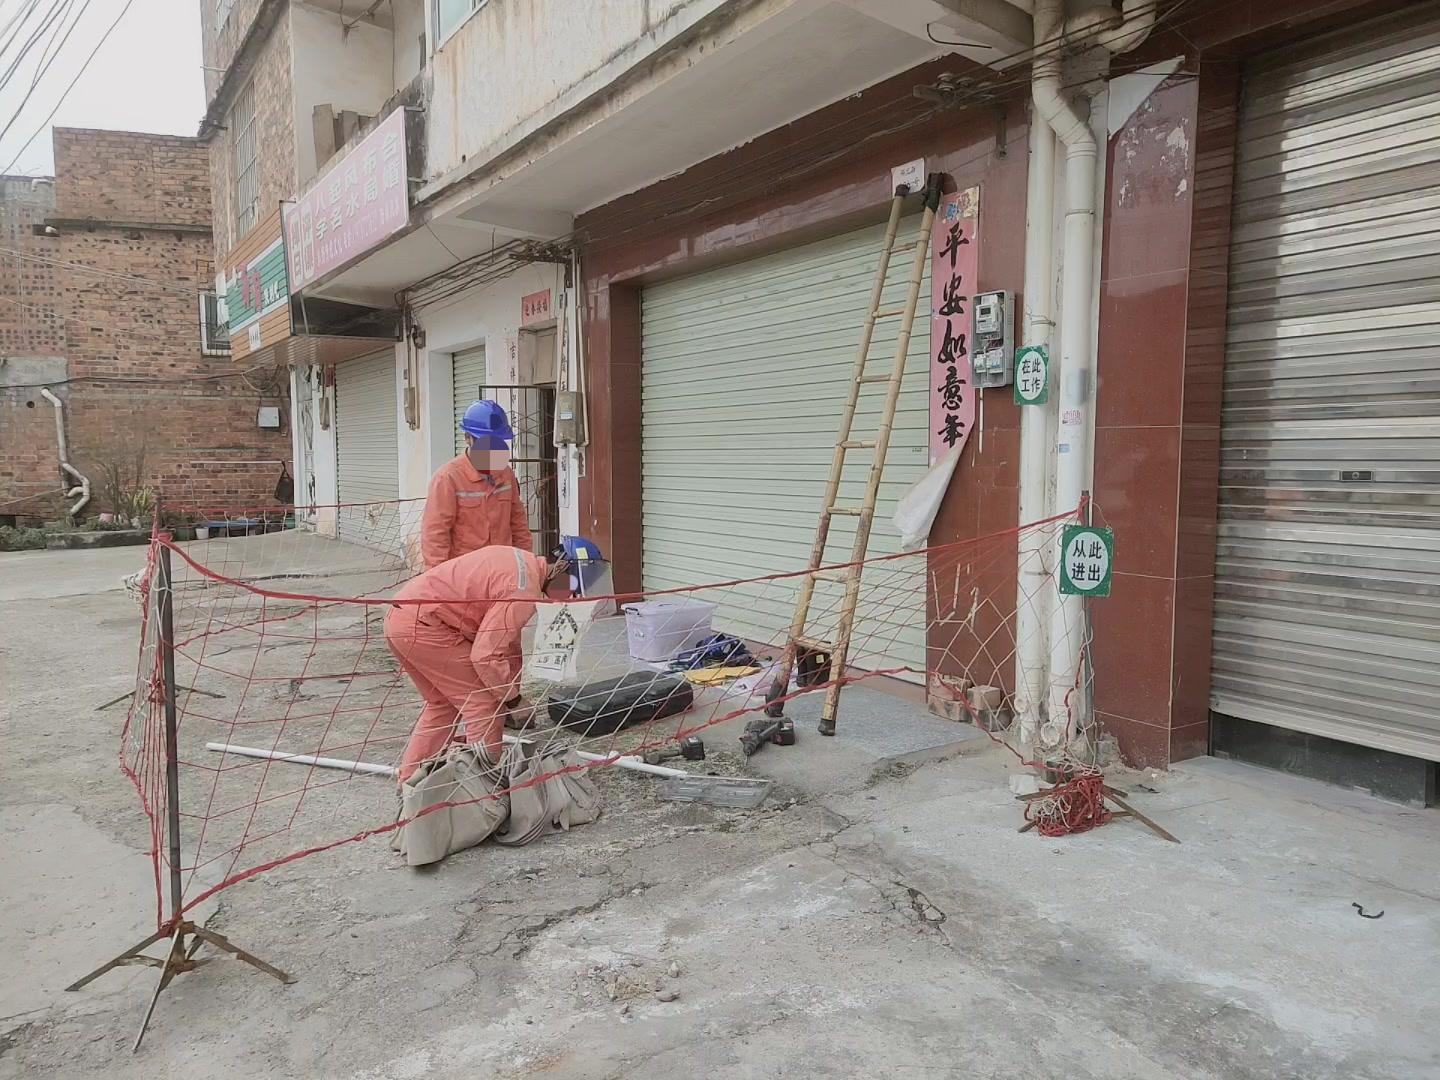halt: (545, 538, 612, 605), (461, 400, 517, 463)
inear: (547, 554, 571, 588), (463, 428, 485, 454)
